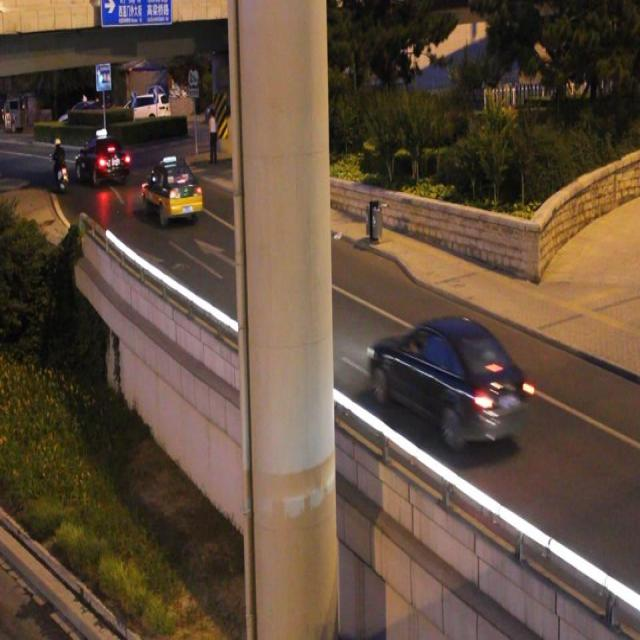car: (369, 318, 524, 443), (142, 164, 202, 218), (77, 140, 129, 182)
